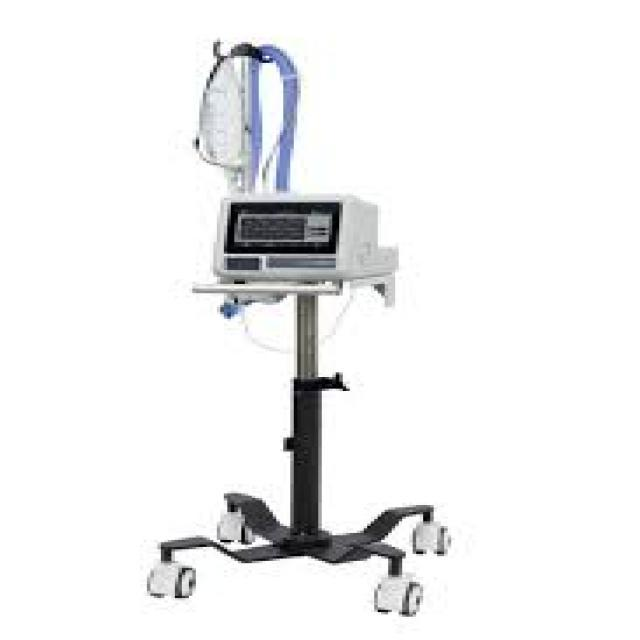ventilator: (174, 29, 477, 586)
